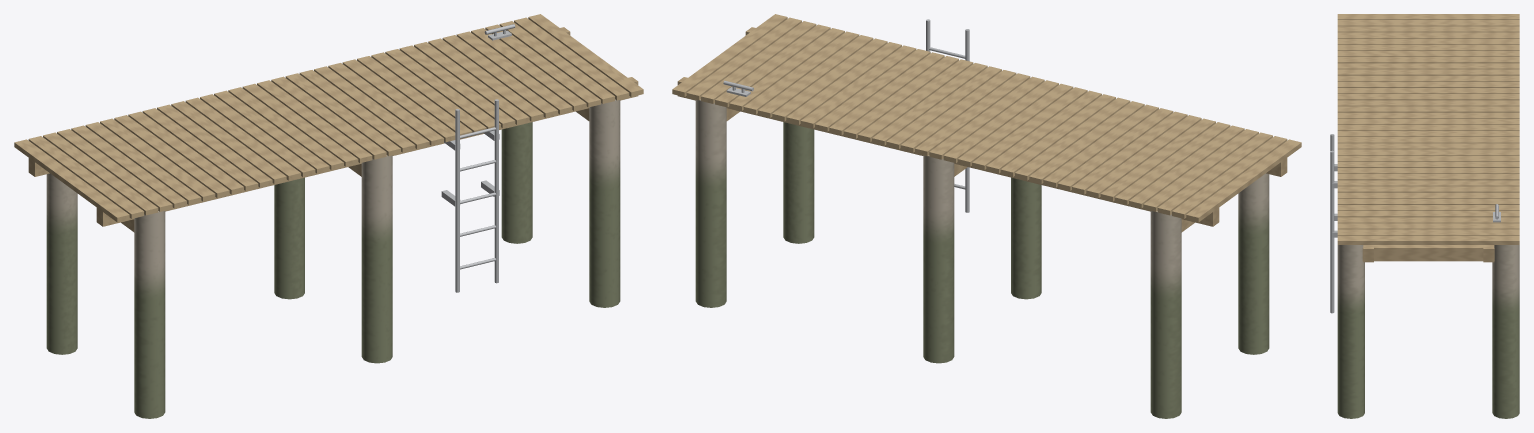
File: dock.fbx
The picture shows the model from 3 angles, left to right: view 1: azimuth 30°, elevation 25°; view 2: azimuth 150°, elevation 25°; view 3: azimuth 270°, elevation 25°; orthographic projection. The views are drawn at different scales.
Parts seen in each view (by area): view 1: dock; view 2: dock; view 3: dock.
Boxes of the visible parts, box(x1,y1,x2,y2) form: dock: box(14, 14, 643, 418); dock: box(672, 14, 1301, 418); dock: box(1330, 14, 1519, 418).
Bounding box in the file's own units: 600 × 255 × 208.
1 material, 1 textured.
